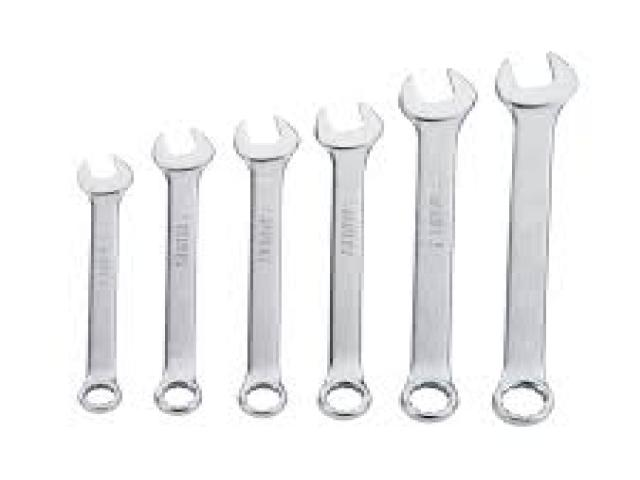Wrench: (492, 52, 578, 424), (399, 69, 478, 420), (315, 103, 384, 418), (234, 117, 299, 416), (152, 128, 215, 412), (78, 155, 134, 411)
